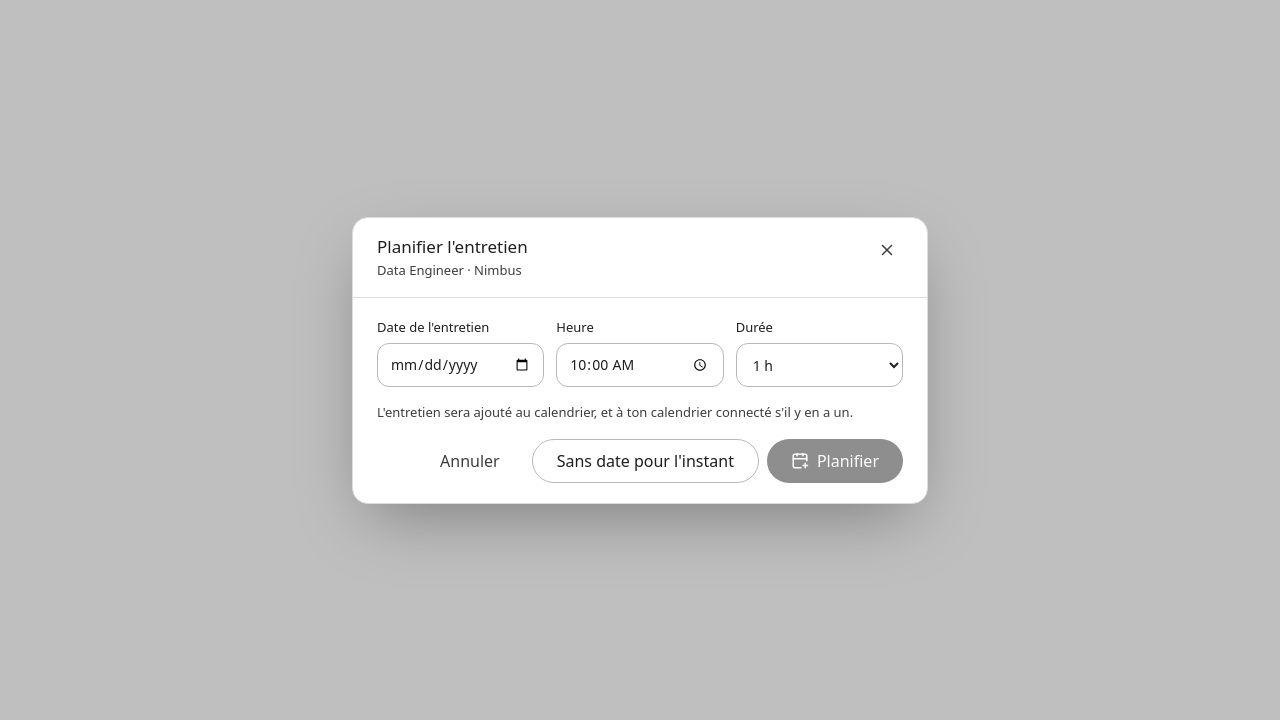
Test: InterviewDialog › says what happened when the calendar fails, and retries only the event
Later steps or results of the test are not shown.
In the date field labelled "Date de l'entretien": (461, 365) [377,343,544,387], type "2026-11-20"
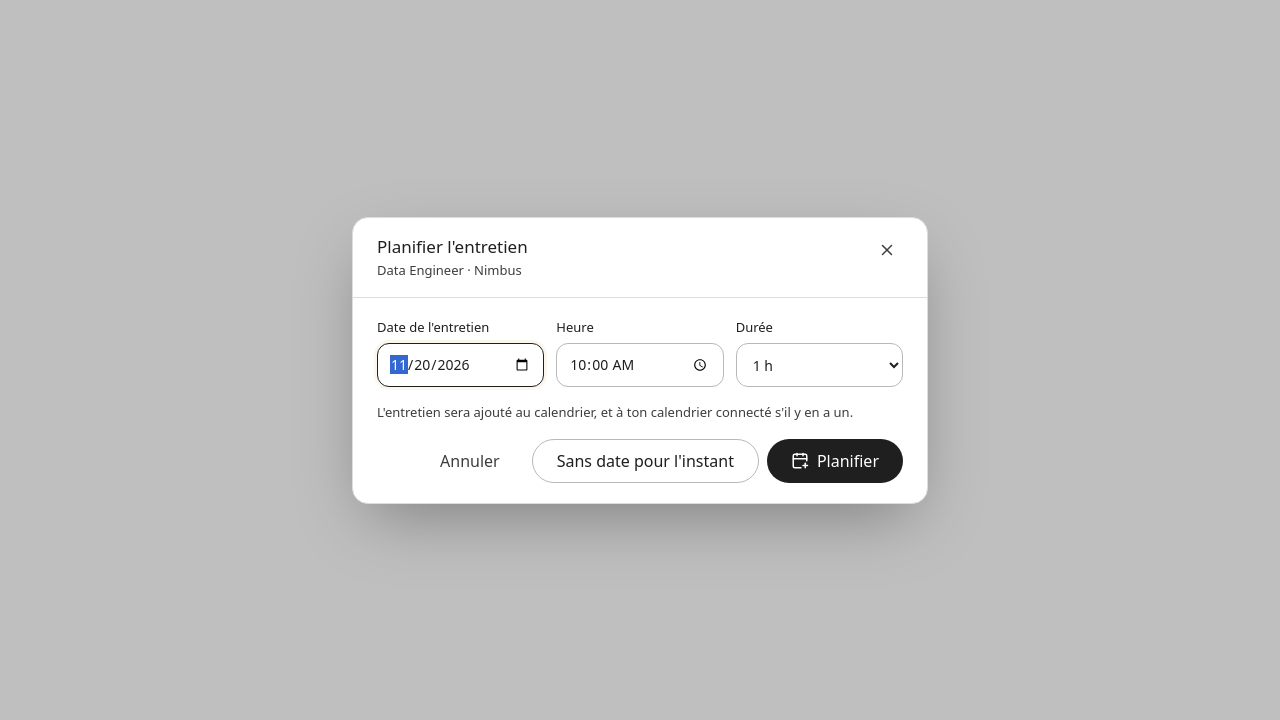
Click the button "Planifier": (835, 460) [767,438,903,482]
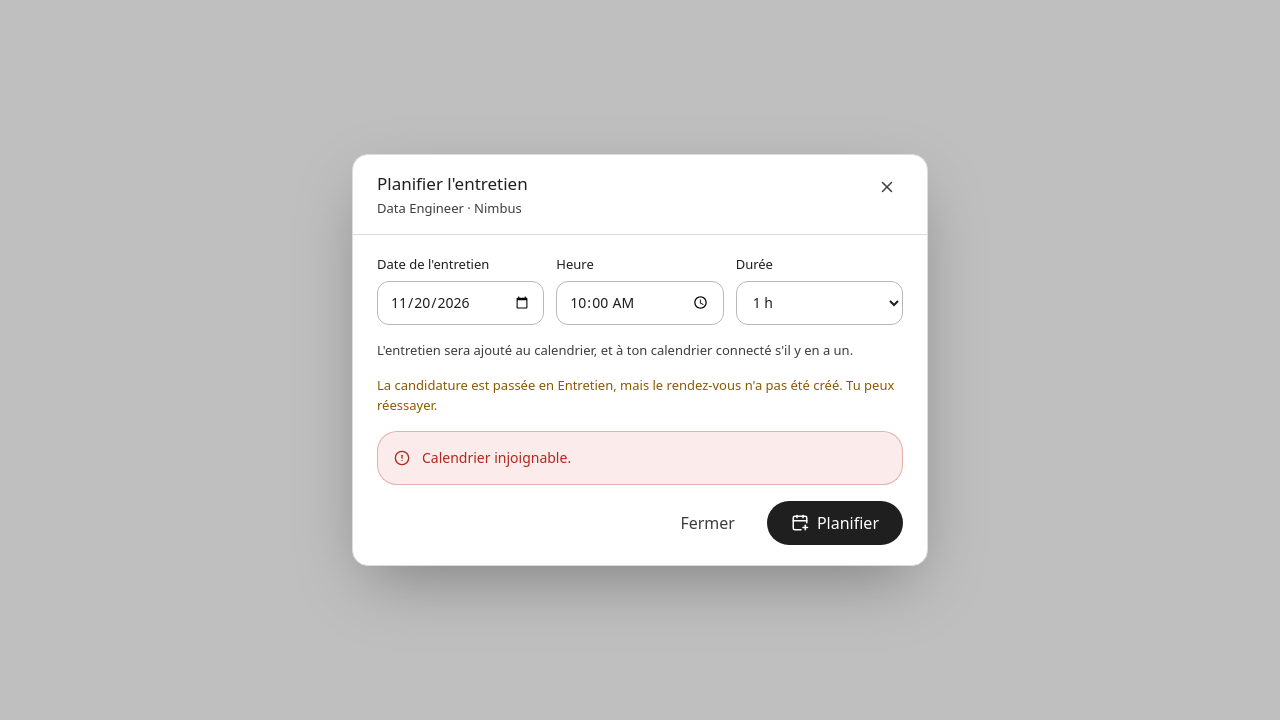
Expected: the text "passée en Entretien, mais le rendez-vous n'a pas été créé" is shown, [377,376,894,414]
